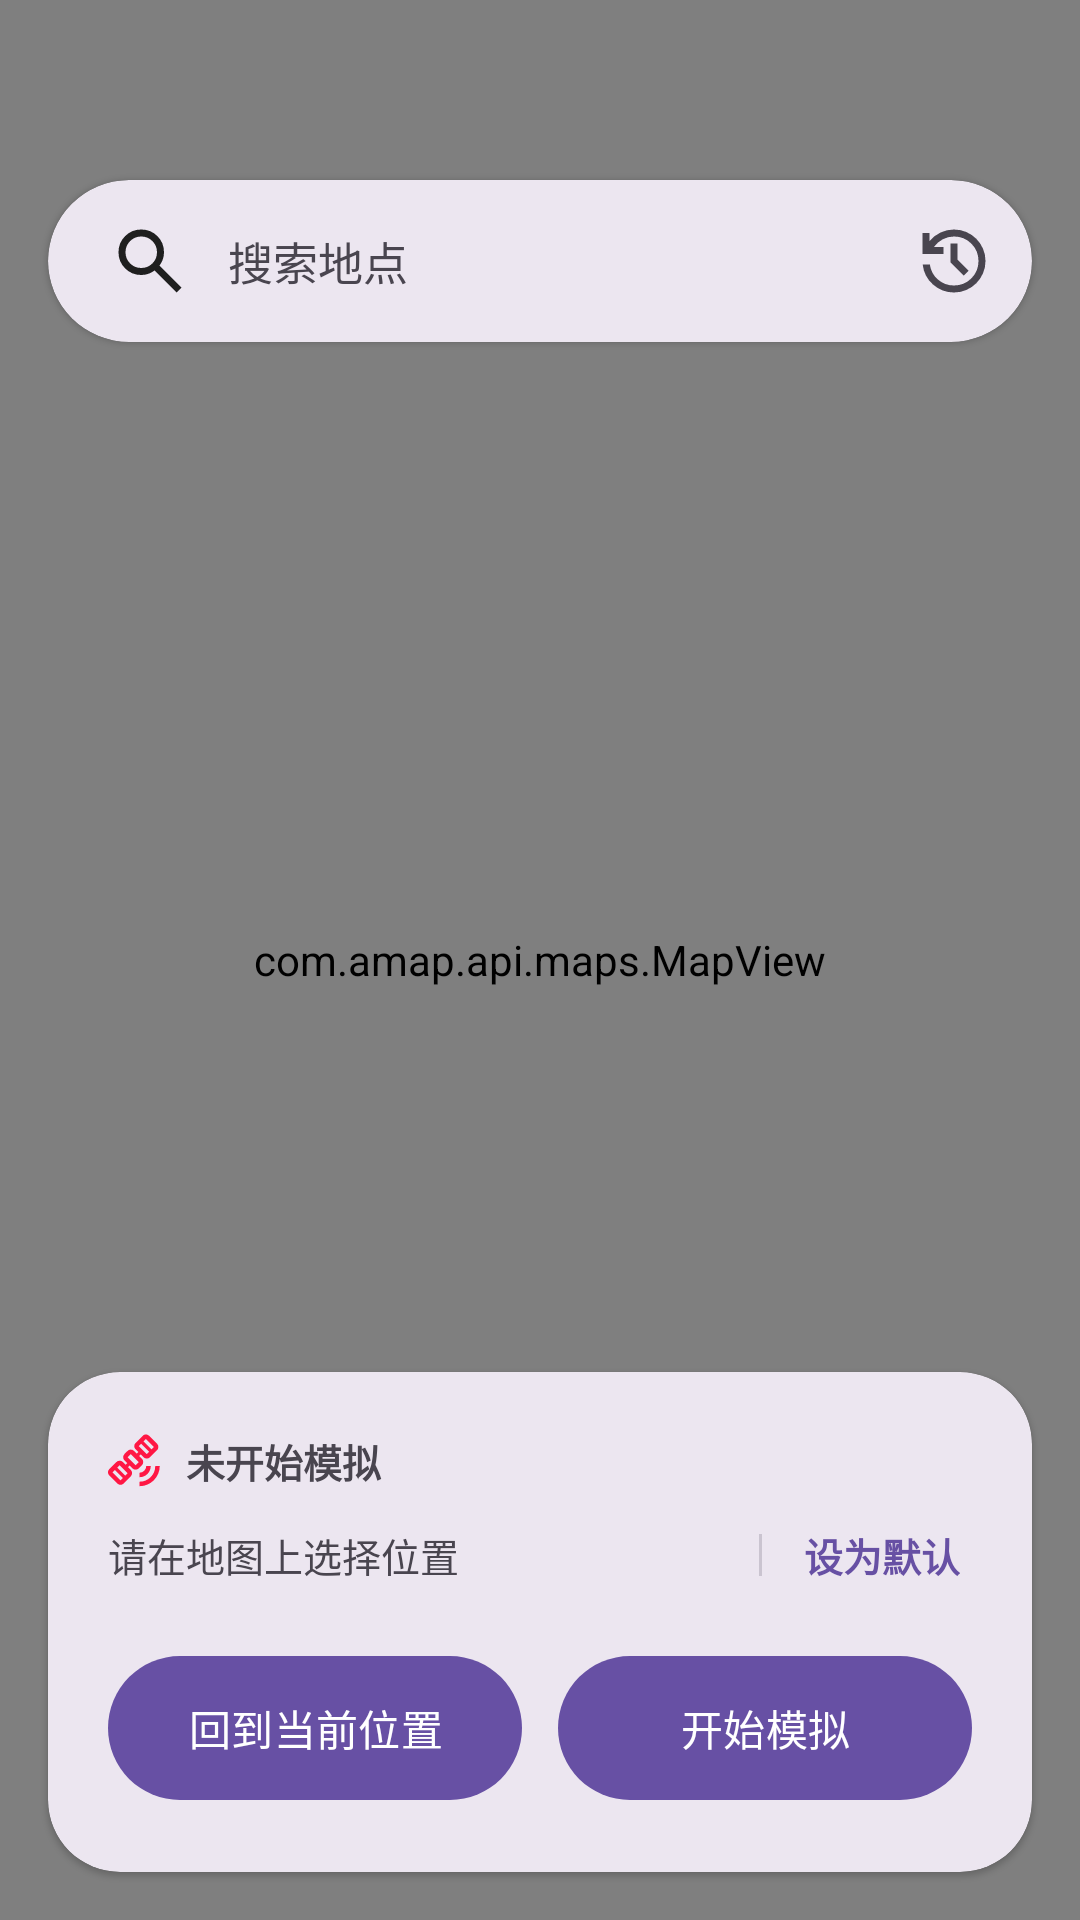

Named icons in this screenshot (1080 × 1920) and their centers, (x=x, y=y):
satellite line: (x=134, y=1460)
历史记录: (x=954, y=261)
